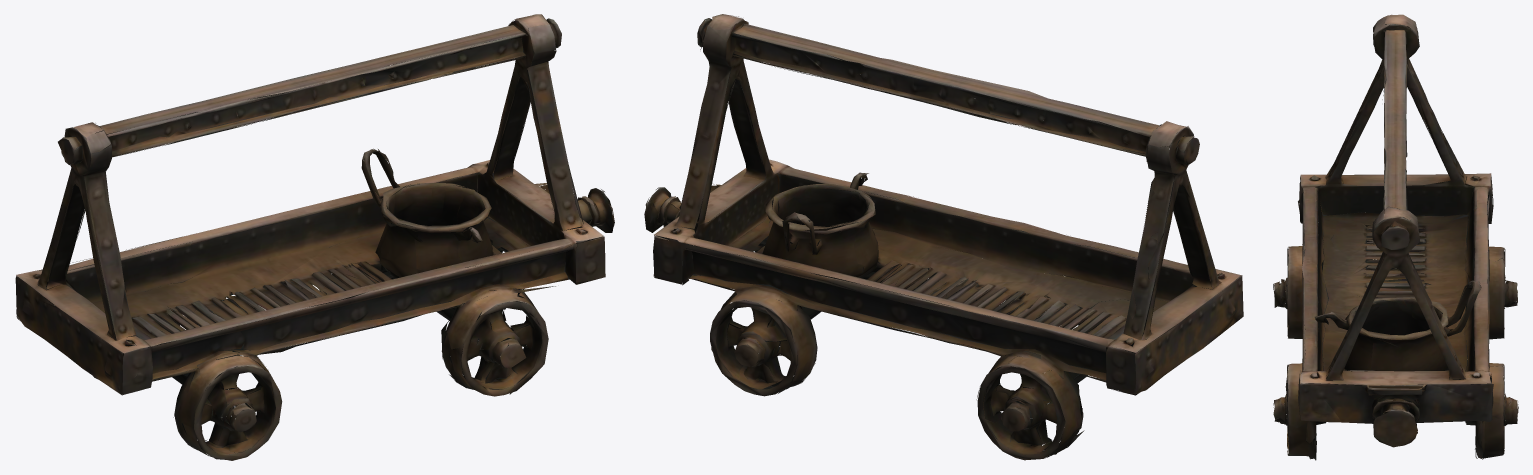
The model's file is chasis_vaciador.glb.
The picture shows the model from 3 angles, left to right: view 1: azimuth 30°, elevation 25°; view 2: azimuth 150°, elevation 25°; view 3: azimuth 270°, elevation 25°; orthographic projection. The views are drawn at different scales.
Visible parts, largest first — view 1: geometry_0; view 2: geometry_0; view 3: geometry_0.
Part boxes in pixels (x1,y1,x2,y2): geometry_0: (15,14,614,460); geometry_0: (644,14,1243,460); geometry_0: (1273,14,1518,460).
Size of the model in its own units: 4.31 by 2.41 by 1.91.
Materials: 1 (1 with a texture image).
